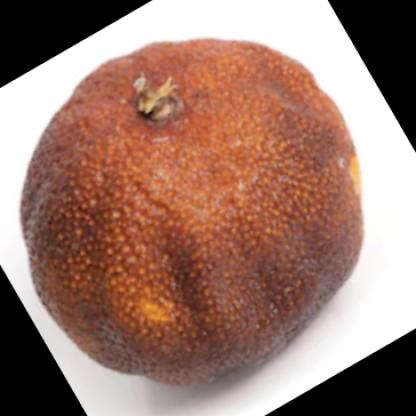rotten: (23, 41, 366, 386)
